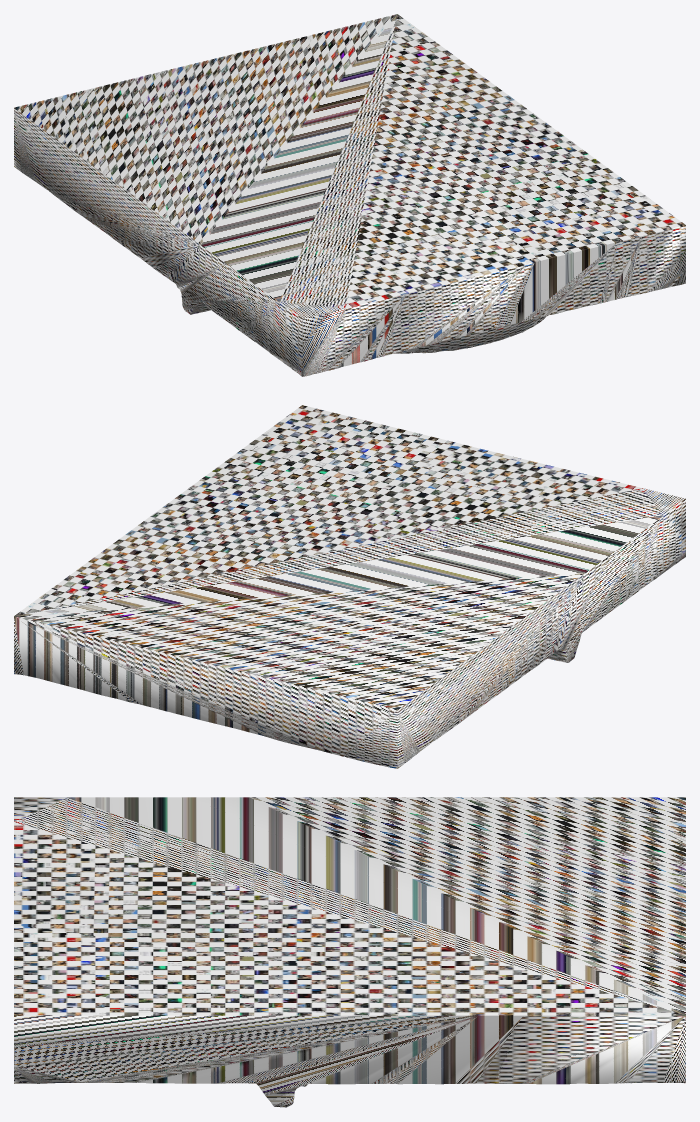
Rendered from Anna_te_Drieen_FINAL.glb.
3 views of the same model, one above another, from view 1: azimuth 30°, elevation 25°; view 2: azimuth 150°, elevation 25°; view 3: azimuth 270°, elevation 25° (orthographic). The views are drawn at different scales.
Visible parts, largest first — view 1: Anna; view 2: Anna; view 3: Anna.
Boxes of the visible parts, x1,y1,x2,y2 form: Anna: [14, 14, 685, 376]; Anna: [14, 405, 685, 768]; Anna: [14, 797, 685, 1107].
Bounding box in the file's own units: 2244 × 453 × 2922.
1 material, 1 textured.
